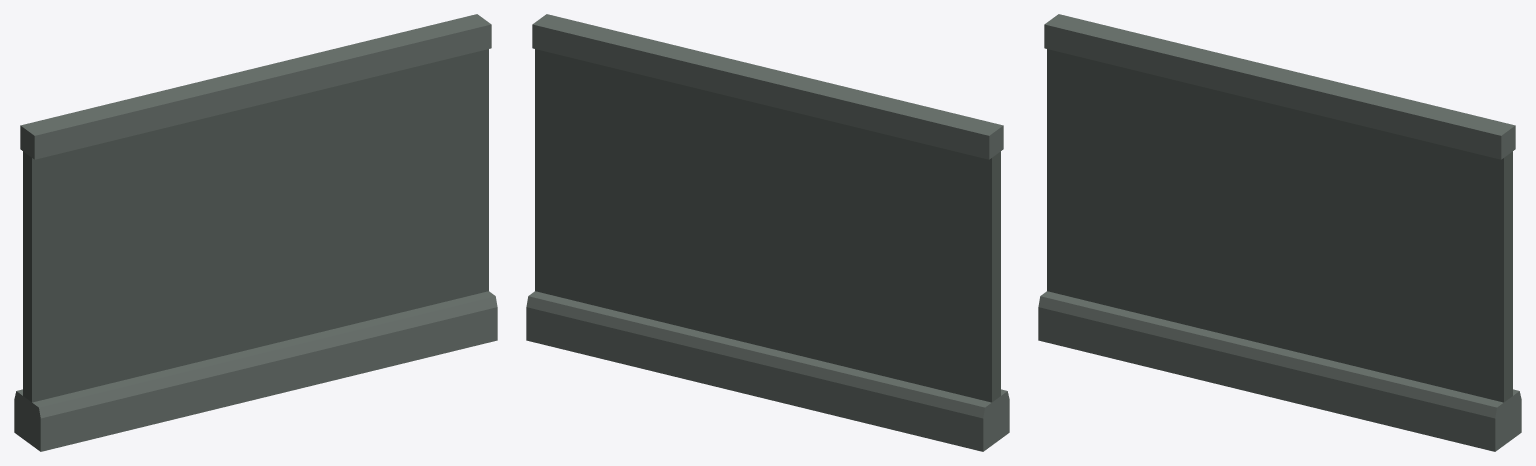
The model's file is stoneWall.fbx.
3 views of the same model, side by side, from view 1: azimuth 30°, elevation 25°; view 2: azimuth 150°, elevation 25°; view 3: azimuth 330°, elevation 25° (orthographic).
Visible parts, largest first — view 1: stoneWall; view 2: stoneWall; view 3: stoneWall.
Part boxes in pixels (left/top/right/bottom): stoneWall: left=14, top=14, right=497, bottom=451; stoneWall: left=526, top=14, right=1009, bottom=451; stoneWall: left=1038, top=14, right=1521, bottom=451.
Bounding box in the file's own units: 4.5 × 2.93 × 0.45.
